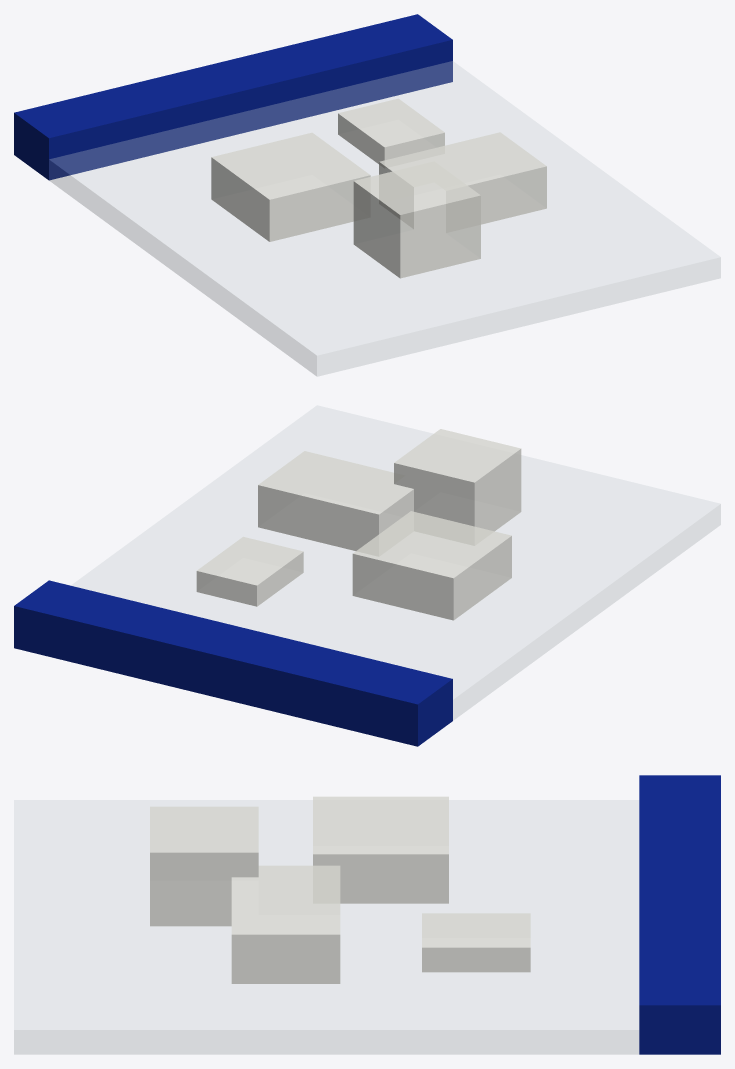
File: meth.glb
3 renders of one model, top to bottom at view 1: azimuth 30°, elevation 25°; view 2: azimuth 150°, elevation 25°; view 3: azimuth 270°, elevation 25°, orthographic. The views are drawn at different scales.
Visible parts, largest first — view 1: meth:compound; view 2: meth:compound; view 3: meth:compound.
Boxes of the visible parts, bbox=[...] form: meth:compound: bbox=[14, 14, 720, 376]; meth:compound: bbox=[14, 405, 720, 746]; meth:compound: bbox=[14, 775, 720, 1054].
Bounding box in the file's own units: 0.04 × 0.008 × 0.052.
